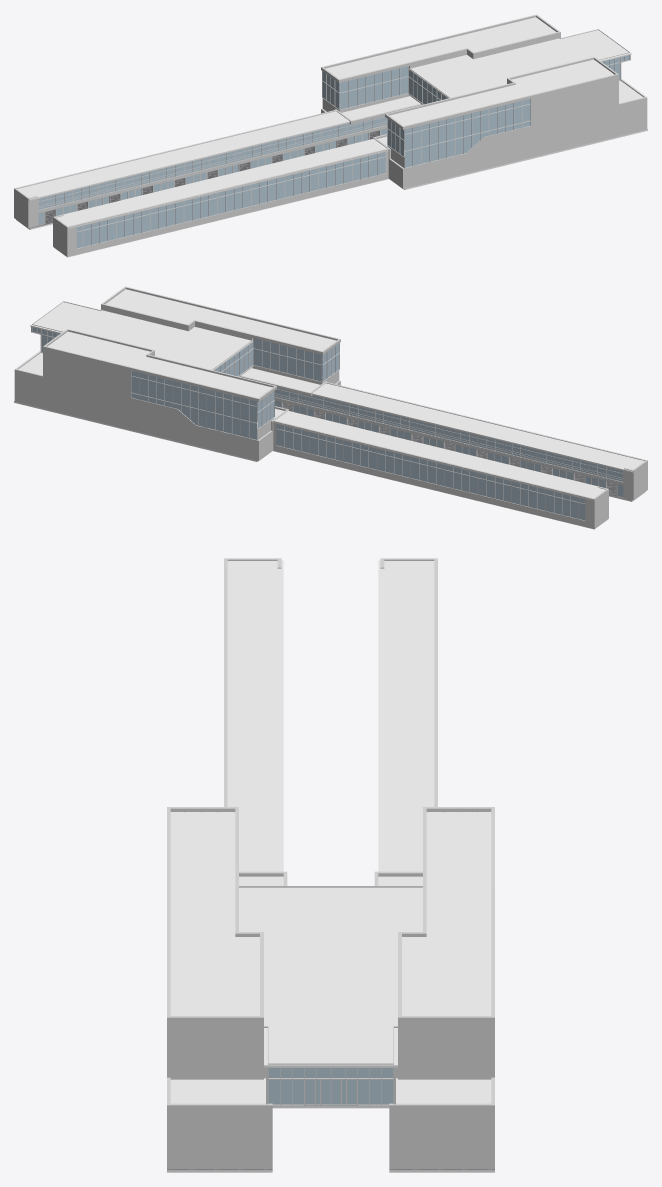
The model's file is REM.gltf.
3 renders of one model, top to bottom at view 1: azimuth 30°, elevation 25°; view 2: azimuth 150°, elevation 25°; view 3: azimuth 270°, elevation 25°, orthographic. The views are drawn at different scales.
Parts seen in each view (by area): view 1: Ceilling.001, windows.001, BigWalls.001, Floor.001, SmallWals.001; view 2: Ceilling.001, windows.001, BigWalls.001, Floor.001, SmallWals.001; view 3: Ceilling.001, BigWalls.001, Floor.001, windows.001, SmallWals.001.
Boxes of the visible parts, left/top/right/bottom form: Ceilling.001: left=17, top=17, right=631, bottom=228; windows.001: left=38, top=55, right=630, bottom=248; BigWalls.001: left=14, top=14, right=647, bottom=256; Floor.001: left=16, top=81, right=647, bottom=257; SmallWals.001: left=322, top=29, right=629, bottom=168; Ceilling.001: left=30, top=289, right=644, bottom=500; windows.001: left=31, top=327, right=623, bottom=520; BigWalls.001: left=14, top=286, right=647, bottom=528; Floor.001: left=14, top=353, right=645, bottom=529; SmallWals.001: left=32, top=301, right=339, bottom=440; Ceilling.001: left=170, top=560, right=491, bottom=1067; BigWalls.001: left=167, top=558, right=494, bottom=1169; Floor.001: left=167, top=1078, right=494, bottom=1172; windows.001: left=184, top=809, right=477, bottom=1106; SmallWals.001: left=239, top=886, right=422, bottom=1078.
Bounding box in the file's own units: 10667 × 1125 × 2641.
Materials: 7 (2 with a texture image).
